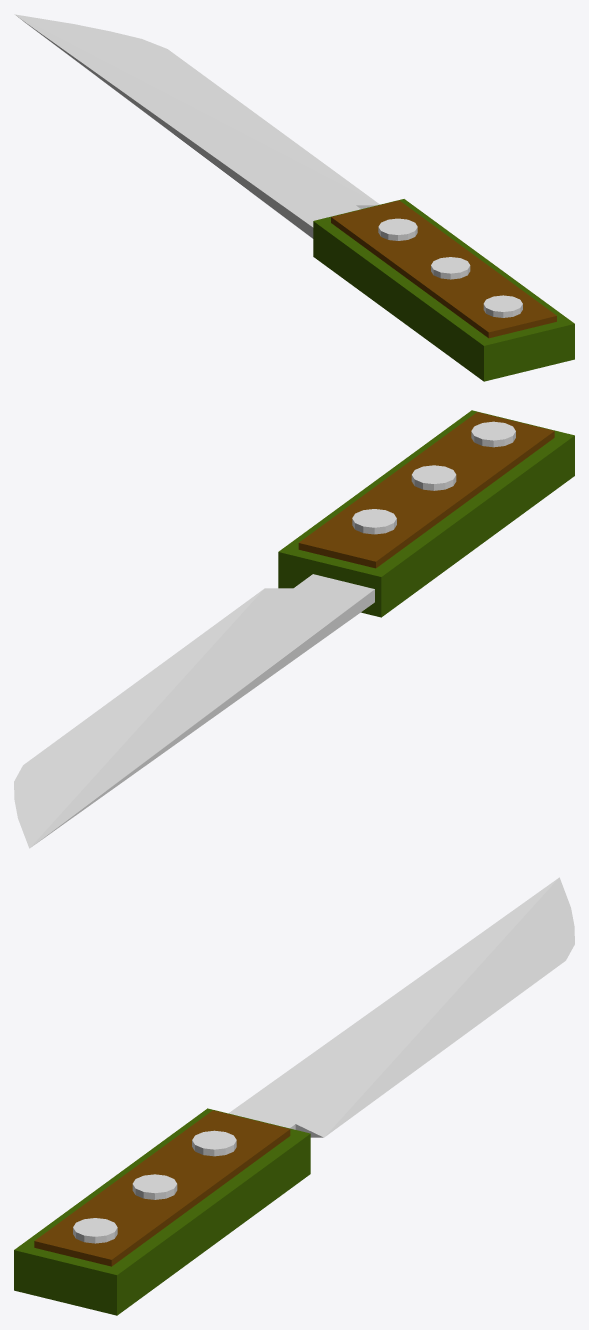
The model's file is knife.fbx.
3 renders of one model, top to bottom at view 1: azimuth 30°, elevation 25°; view 2: azimuth 150°, elevation 25°; view 3: azimuth 330°, elevation 25°, orthographic. The views are drawn at different scales.
Visible parts, largest first — view 1: Cube.001, Cube, Cube.002, Cylinder.002; view 2: Cube.001, Cube, Cube.002, Cylinder.002; view 3: Cube.001, Cube, Cube.002, Cylinder.002.
Boxes of the visible parts, x1,y1,x2,y2 form: Cube.001: (14, 14, 379, 238); Cube: (313, 199, 574, 381); Cube.002: (331, 200, 556, 338); Cylinder.002: (378, 218, 522, 317); Cube.001: (14, 574, 374, 848); Cube: (278, 410, 574, 617); Cube.002: (298, 412, 554, 568); Cylinder.002: (352, 421, 515, 534); Cube.001: (228, 877, 574, 1137); Cube: (14, 1108, 310, 1315); Cube.002: (34, 1110, 290, 1266); Cylinder.002: (73, 1130, 236, 1243).
Size of the model in its own units: 80 by 50 by 724.
